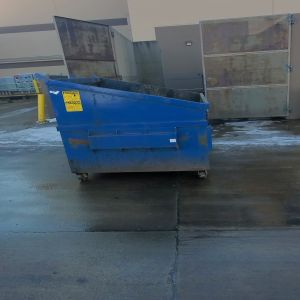Dumpster: (46, 80, 212, 181)
